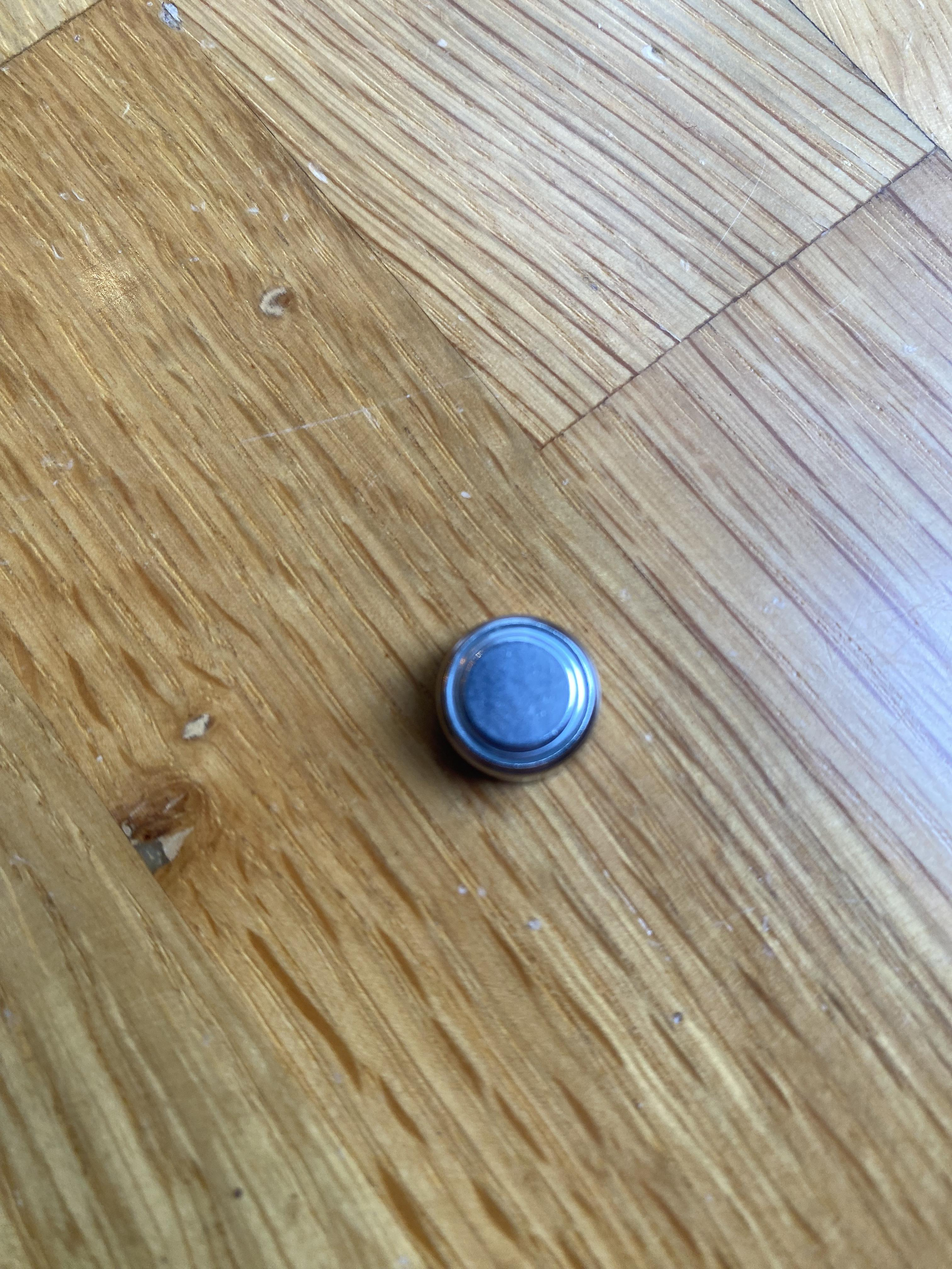COIN: (433, 613, 600, 783)
